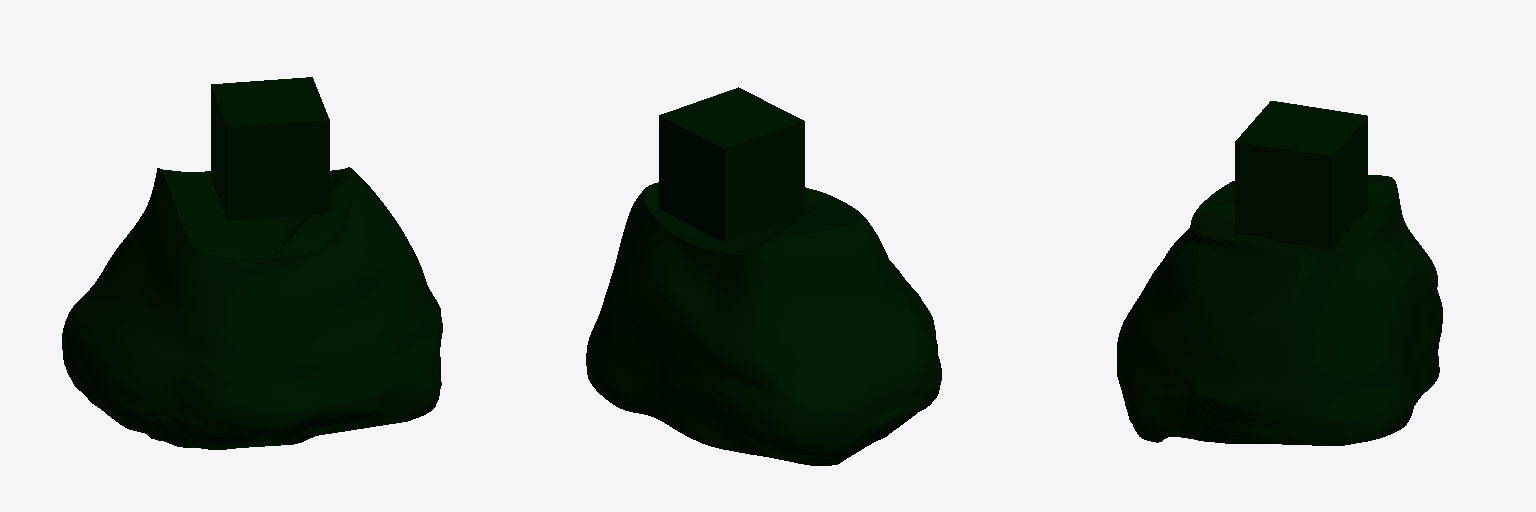
Rendered from AS_Garden.obj.
3 renders of one model, left to right at view 1: azimuth 30°, elevation 25°; view 2: azimuth 150°, elevation 25°; view 3: azimuth 270°, elevation 25°, orthographic.
Parts seen in each view (by area): view 1: Garden_Base, Garden; view 2: Garden_Base, Garden; view 3: Garden_Base, Garden.
Part boxes in pixels (left/top/right/bottom): Garden_Base: left=62, top=167, right=442, bottom=449; Garden: left=211, top=77, right=329, bottom=220; Garden_Base: left=586, top=182, right=941, bottom=465; Garden: left=659, top=87, right=804, bottom=242; Garden_Base: left=1117, top=175, right=1442, bottom=445; Garden: left=1235, top=101, right=1367, bottom=249.
Bounding box in the file's own units: 1887 × 1583 × 1677.